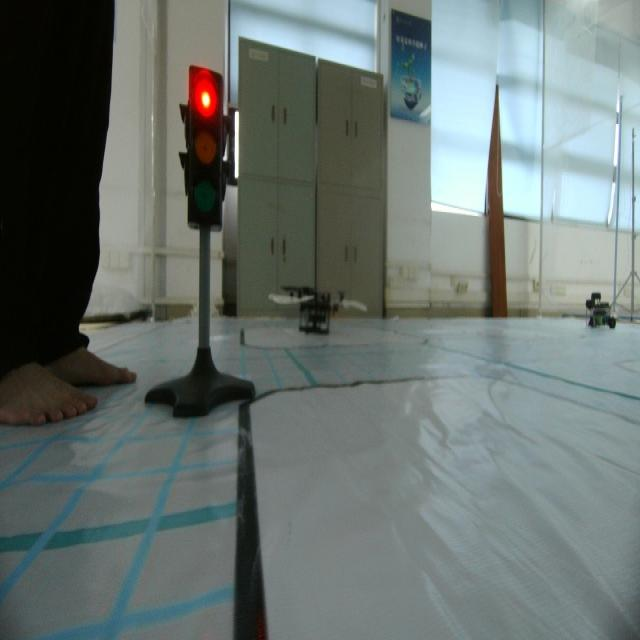red: (176, 51, 234, 233)
